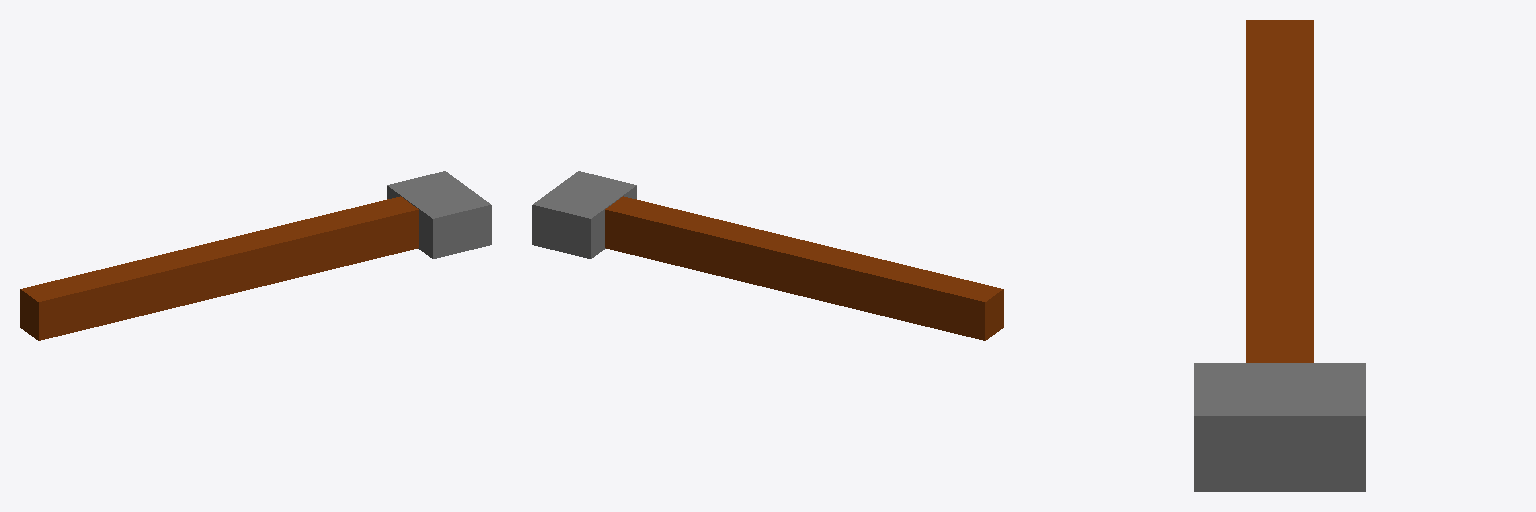
URDF robot description (handle_head):
<?xml version="1.0"?>
<robot name="handle_head">

  <link name="handle_head">
    <!-- Handle -->
    <visual>
              <origin xyz="0 0 0" rpy="0 0 0"/>
        <geometry>
          <box size="0.2850932183272007 0.023453906621438914 0.027834314225034712"/>
        </geometry>
        
      <material name="brown">
        <color rgba="0.55 0.27 0.07 1.0"/>
      </material>
    </visual>
    <collision>
              <origin xyz="0 0 0" rpy="0 0 0"/>
        <geometry>
          <box size="0.2850932183272007 0.023453906621438914 0.027834314225034712"/>
        </geometry>
        
    </collision>

    <!-- Head -->
    <visual>
              <origin xyz="0.1644977332678751 0 0" rpy="0 0 0"/>
        <geometry>
          <box size="0.04390224820854946 0.059902492153191655 0.028980236949393227"/>
        </geometry>
        
      <material name="gray">
        <color rgba="0.5 0.5 0.5 1.0"/>
      </material>
    </visual>
    <collision>
              <origin xyz="0.1644977332678751 0 0" rpy="0 0 0"/>
        <geometry>
          <box size="0.04390224820854946 0.059902492153191655 0.028980236949393227"/>
        </geometry>
        
    </collision>

    <inertial>
      <origin xyz="0.09566016610360568 0 0" rpy="0 0 0"/>
      <mass value="0.2146860951529123"/>
      <inertia ixx="5.5988510592738656e-05" iyy="0.0020568032376508736" izz="0.0020837157537933713" ixy="0" ixz="0" iyz="0"/>
    </inertial>
  </link>

</robot>

--- Facts derived from the render (not from the file) ---
3 views of the same robot in one strip: view 1: azimuth 30°, elevation 25°; view 2: azimuth 150°, elevation 25°; view 3: azimuth 270°, elevation 25° (orthographic).
Robot: handle_head — 1 links, 0 joints (none); root link handle_head; default pose: all joints at 0.
Visible links, largest first — view 1: handle_head; view 2: handle_head; view 3: handle_head.
Boxes of the visible links, x1,y1,x2,y2 form: handle_head: (20,171,491,340); handle_head: (532,171,1003,340); handle_head: (1194,20,1365,491).
Bounding box of the posed robot: 0.329 × 0.0599 × 0.029 m (x, y, z).
Geometry: primitives only (box / cylinder / sphere), no mesh files.
